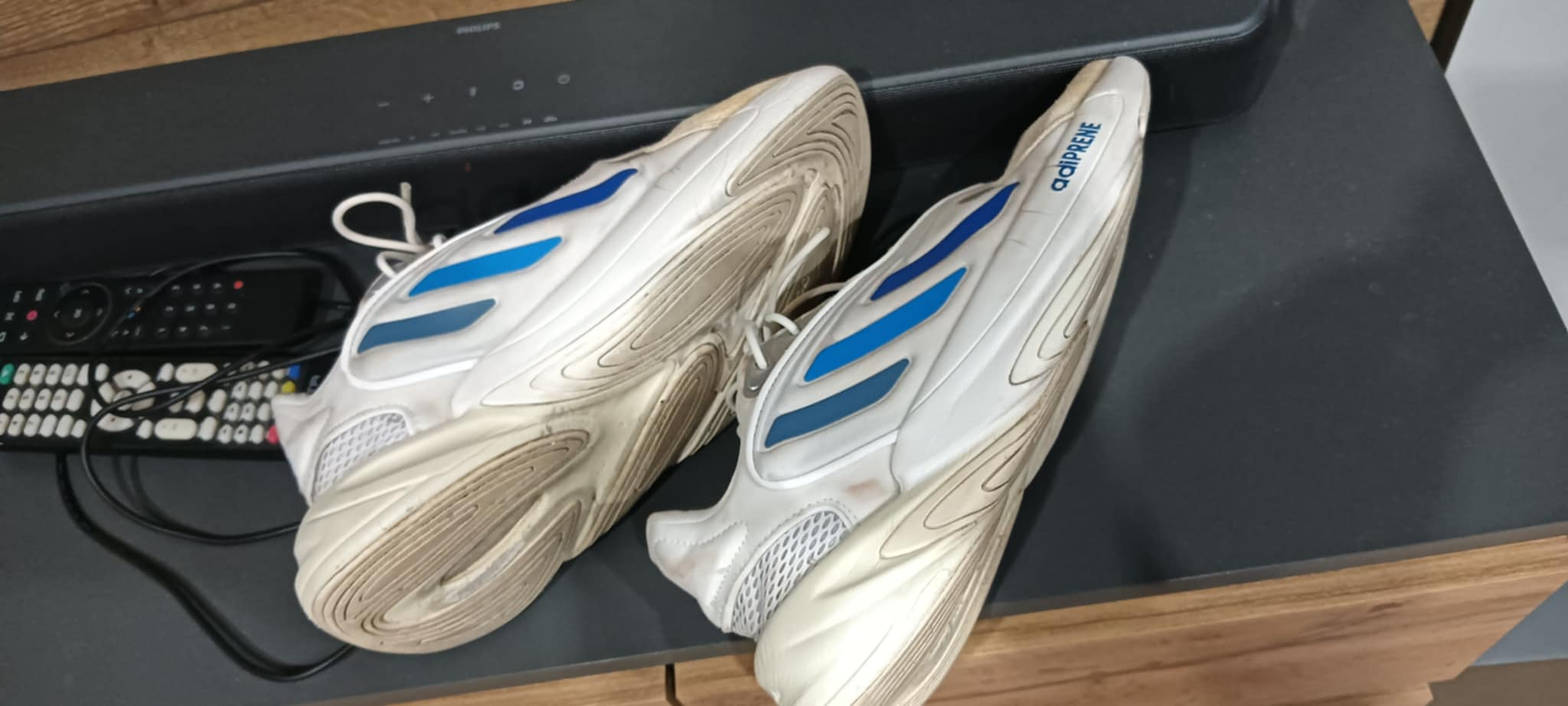adidas_ozelia_cream_blue: (264, 55, 870, 659), (642, 60, 1171, 706)
